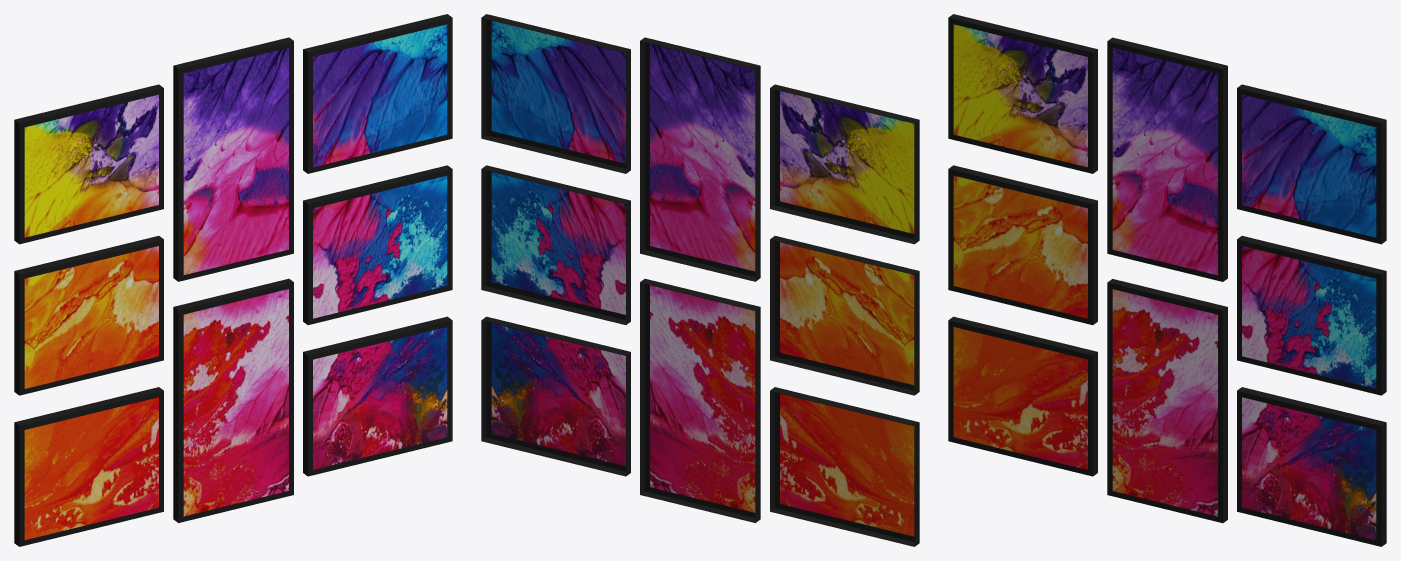
The model's file is Frame_08.FBX.
3 renders of one model, left to right at view 1: azimuth 30°, elevation 25°; view 2: azimuth 150°, elevation 25°; view 3: azimuth 330°, elevation 25°, orthographic.
Parts seen in each view (by area): view 1: Frame08; view 2: Frame08; view 3: Frame08.
Part boxes in pixels (x1,y1,x2,y2): Frame08: (14, 14, 452, 546); Frame08: (481, 14, 919, 546); Frame08: (948, 14, 1386, 546).
Bounding box in the file's own units: 1.5 × 1.5 × 0.03.
